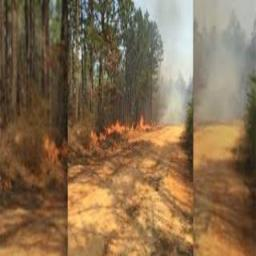Low smoke: (197, 3, 251, 118), (153, 3, 191, 120)
Small fire: (71, 131, 98, 161), (101, 119, 128, 147), (130, 112, 161, 136)
